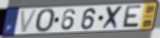6: (81, 7, 97, 31), (61, 8, 76, 31)
E: (120, 5, 143, 29)
O: (34, 8, 57, 34)
V: (19, 9, 39, 35)
X: (101, 5, 125, 31)
